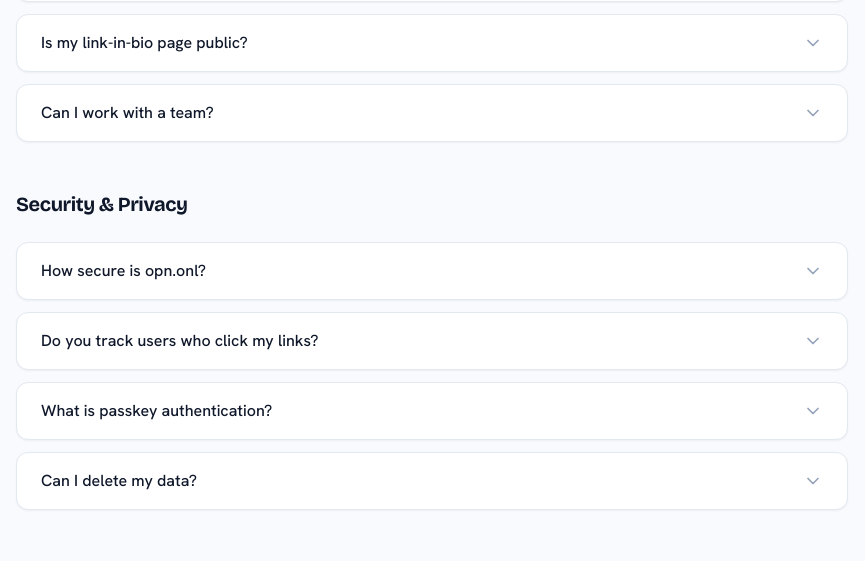
Test case: FAQ › says when Google Analytics runs in either consent mode
(page scrolled)
Click the button "Do you track users who click my links?". click: [180, 340]
box: x1=17 y1=313 x2=847 y2=369
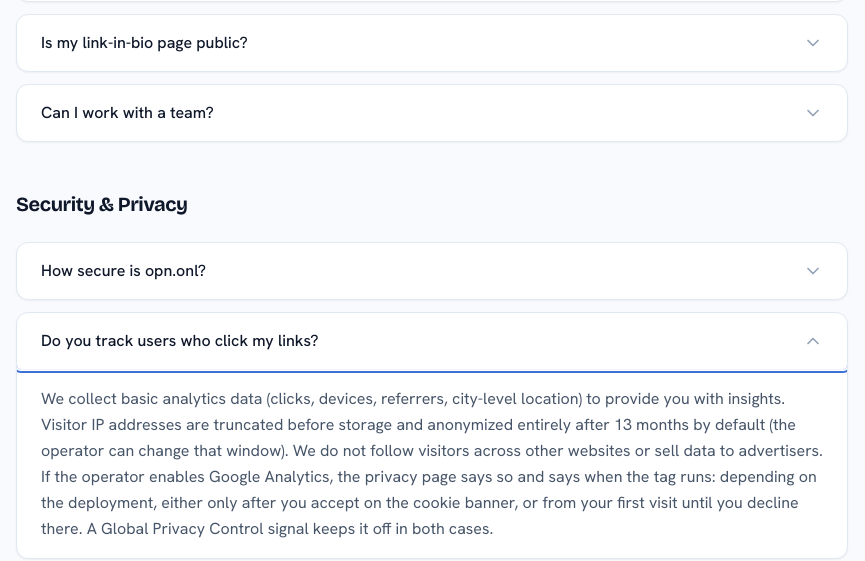
expect the text "if the operator enables google analytics" does not show "does not load until you allow it": met, box x1=17 y1=369 x2=847 y2=558
expect the text "if the operator enables google analytics" shows "only after you accept": met, box x1=41 y1=388 x2=823 y2=539
expect the text "if the operator enables google analytics" shows "until you decline": met, box x1=41 y1=388 x2=823 y2=539
